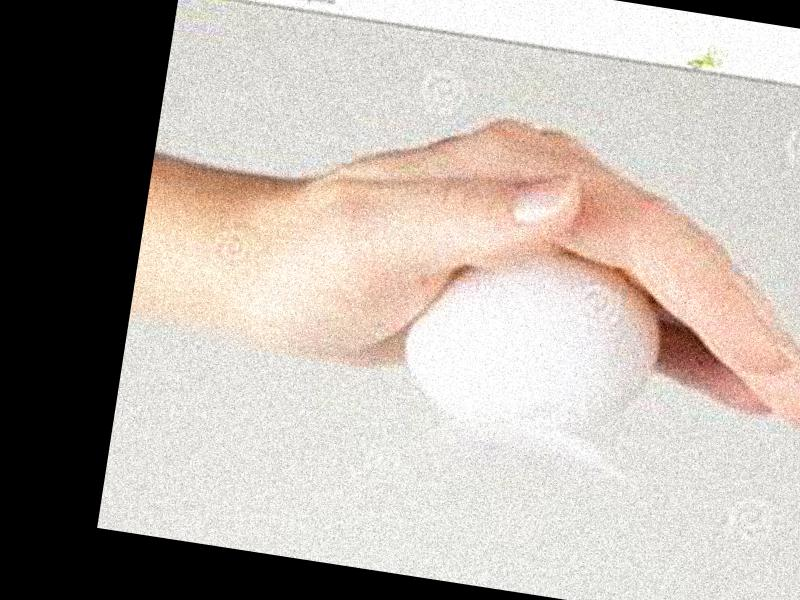Eggs: (394, 234, 674, 445)
